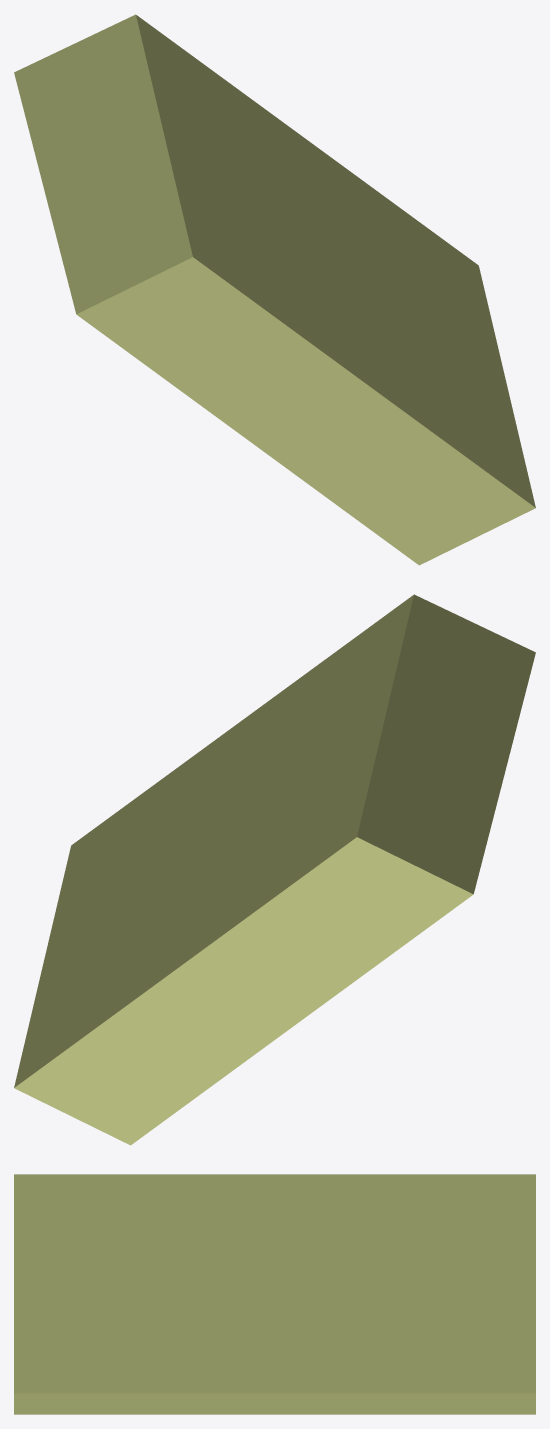
3 renders of one model, top to bottom at view 1: azimuth 30°, elevation 25°; view 2: azimuth 150°, elevation 25°; view 3: azimuth 270°, elevation 25°, orthographic. The views are drawn at different scales.
Visible parts, largest first — view 1: 0_2_3_2_1_1_3_2_3_1_3; view 2: 0_2_3_2_1_1_3_2_3_1_3; view 3: 0_2_3_2_1_1_3_2_3_1_3.
Part boxes in pixels (x1=…): 0_2_3_2_1_1_3_2_3_1_3: x1=14, y1=14, x2=535, y2=565; 0_2_3_2_1_1_3_2_3_1_3: x1=14, y1=594, x2=535, y2=1145; 0_2_3_2_1_1_3_2_3_1_3: x1=14, y1=1174, x2=535, y2=1414.
Size of the model in its own units: 1.81 by 2.76 by 6.
